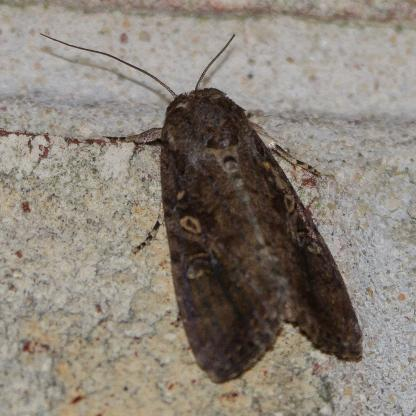Fall Armyworm Moth: (38, 31, 368, 388)
